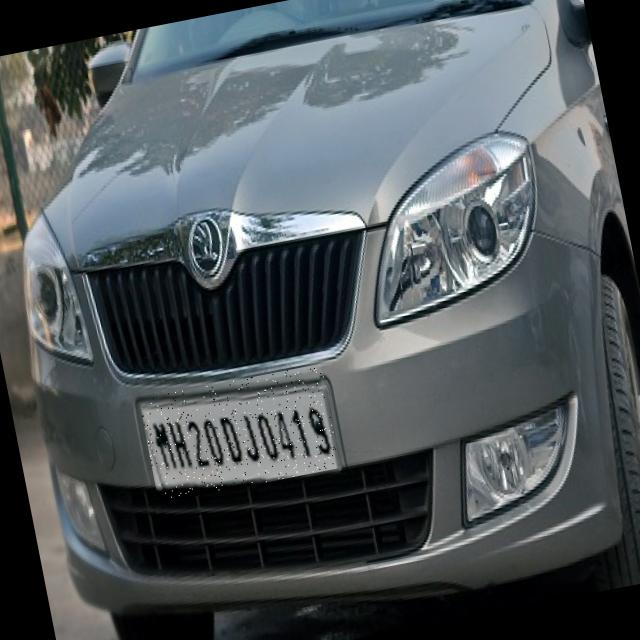Plate: (140, 364, 343, 504)
